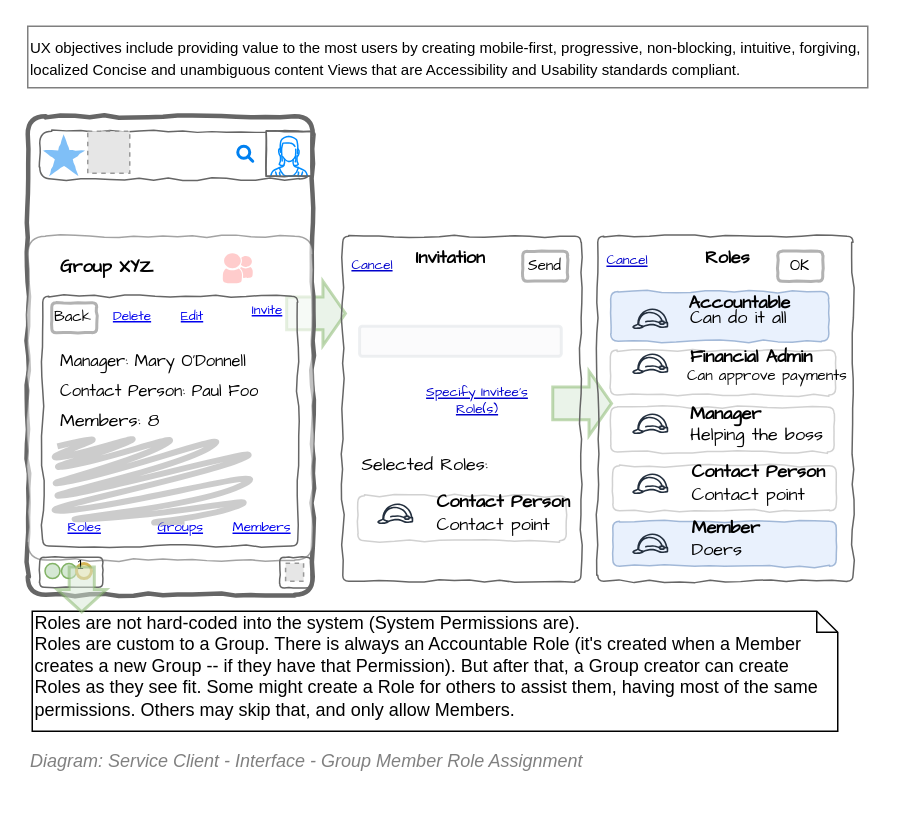
The diagram is 897 pixels wide and 815 high, and some of its shapes have lost their labels. Grey dashed boxes stand in for pictures. Here are the shapes that lost their labels. From the top down, the centre of each, then its label:
(459,340): betty.smith@partner.org
(151,482): etc.
